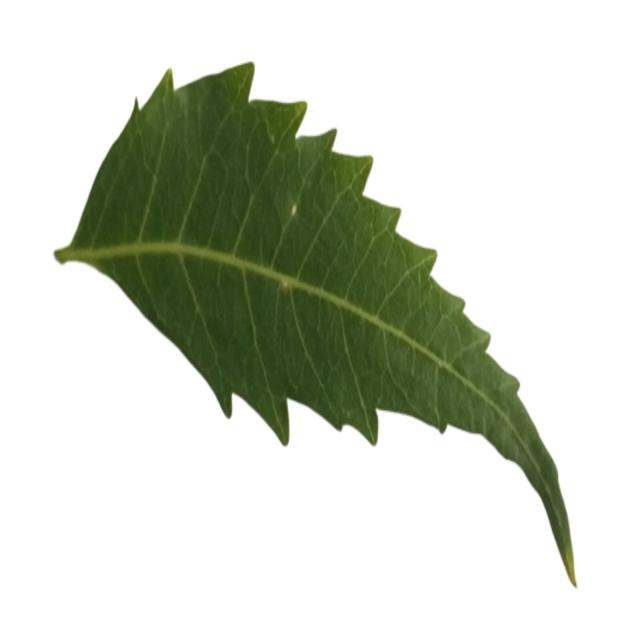Medicinal-Neem: (54, 56, 578, 591)
